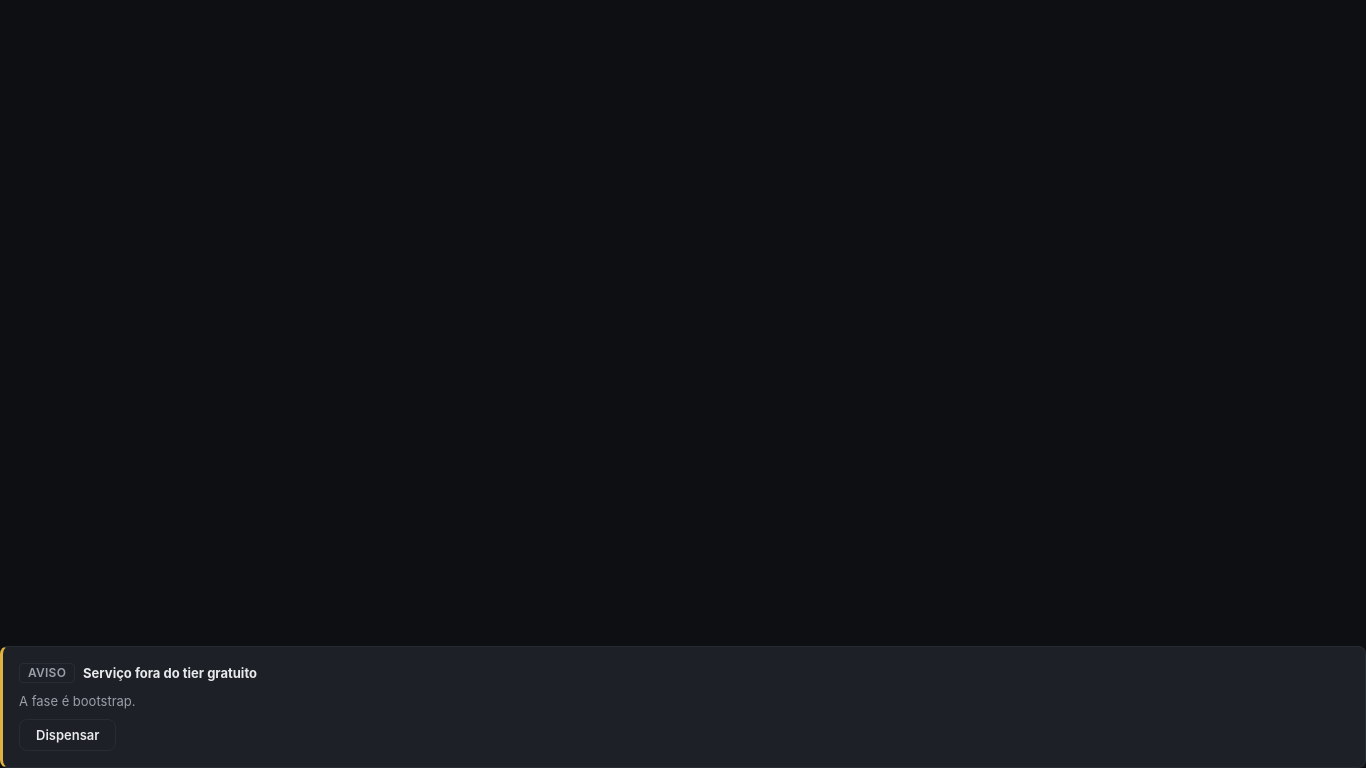
AvisoRegra › dispensável pede justificativa e só envia com o mínimo de caracteres
The image size is (1366, 768).
Later steps or results of the test are not shown.
(page scrolled)
Click the button "Dispensar" at (68, 735), box top-left (19, 719), bottom-right (116, 751)
(page scrolled)
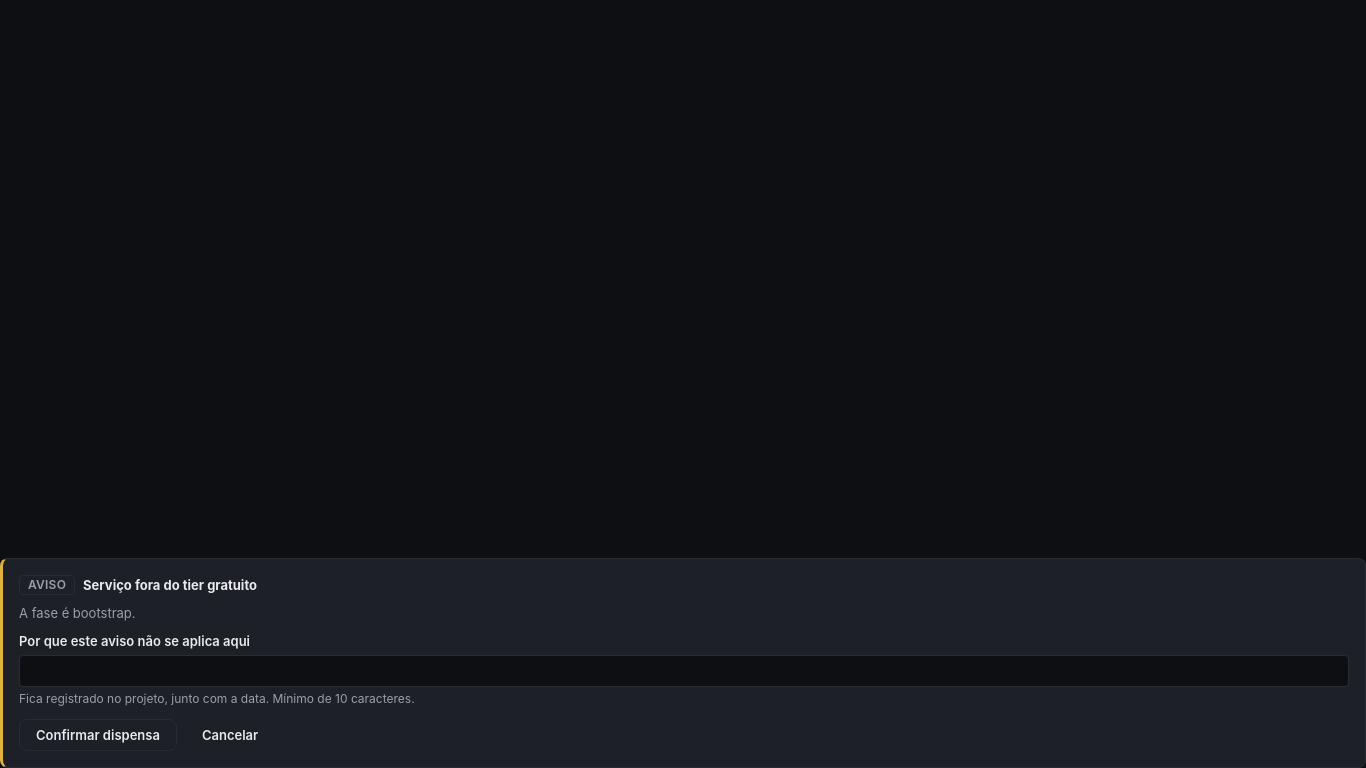
Type "curta" into the field labelled "Por que este aviso não se aplica aqui" at (684, 671), box top-left (19, 655), bottom-right (1349, 687)
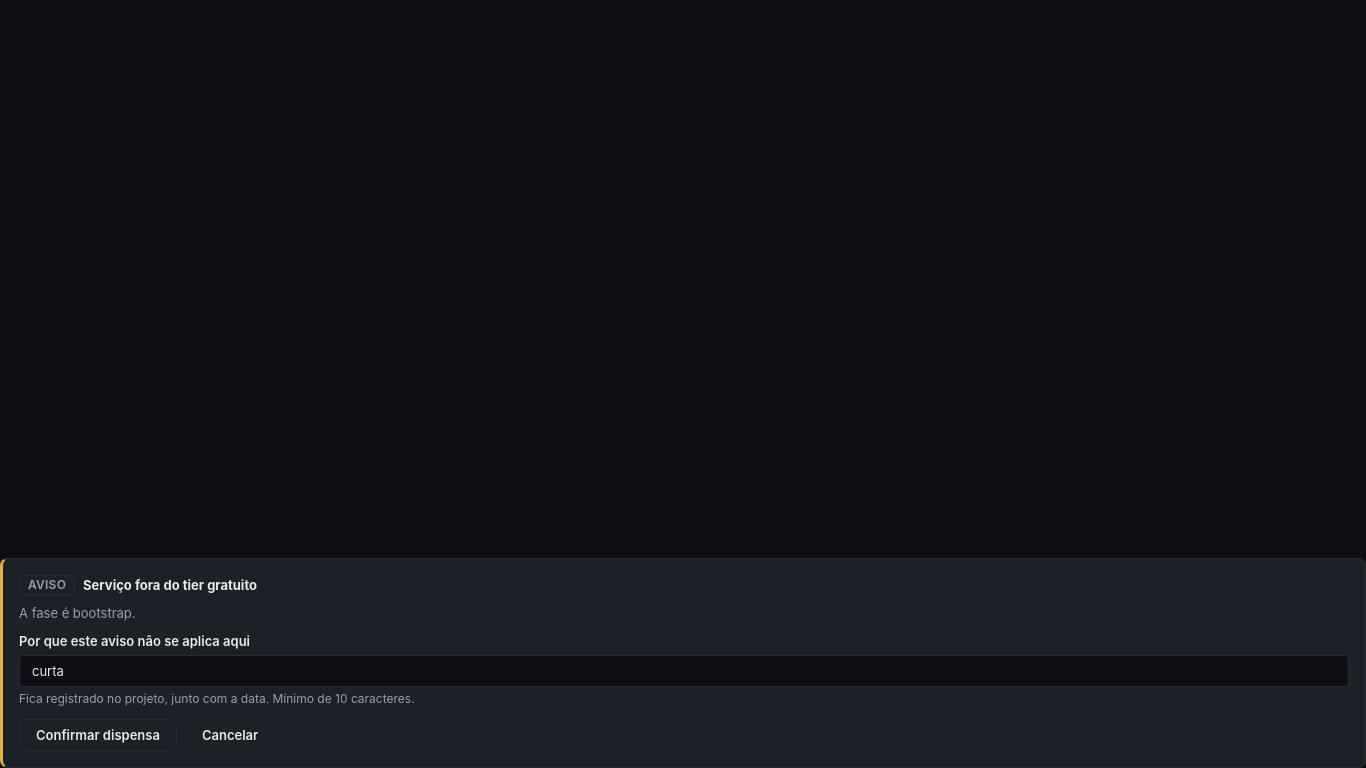
Click the button "Confirmar dispensa" at (98, 735), box top-left (19, 719), bottom-right (177, 751)
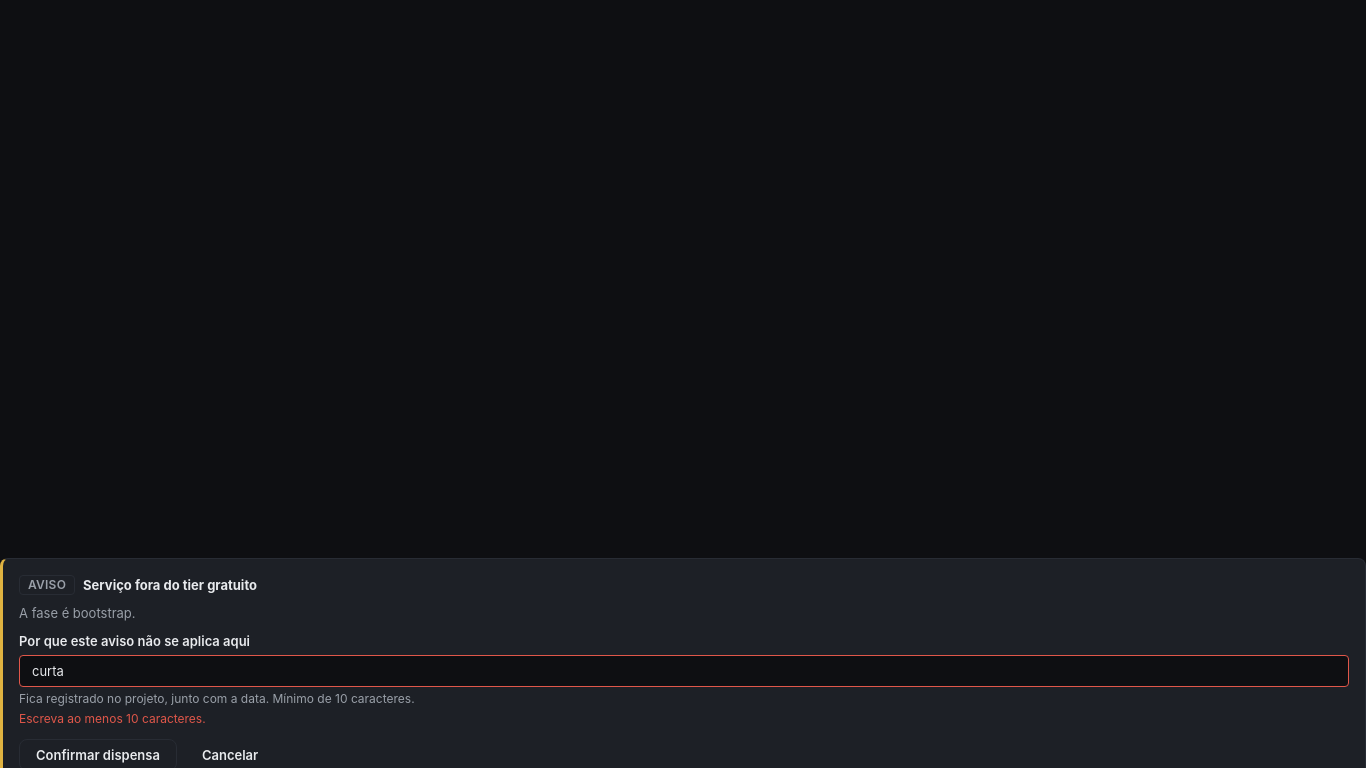
Check: the message reads "Escreva ao menos 10 caracteres.", box top-left (19, 711), bottom-right (206, 726)
